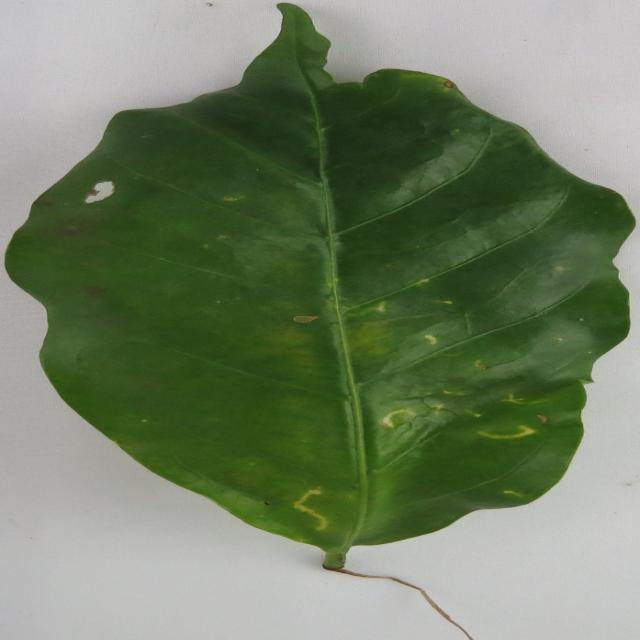DeficienciaNutricional-Calcio: (8, 4, 633, 569)
